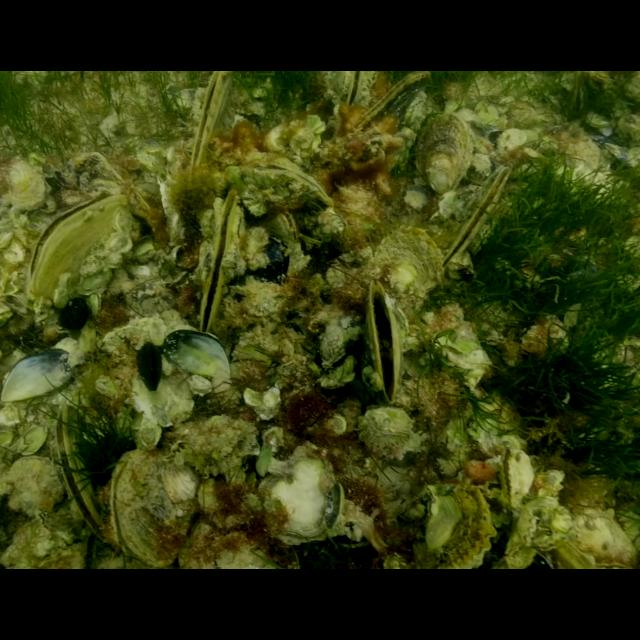Oyster-Closed: (108, 449, 198, 567), (369, 224, 445, 326), (411, 110, 477, 198), (352, 72, 432, 138)
Oyster-Open: (27, 188, 125, 300), (423, 489, 537, 569), (438, 164, 516, 270), (54, 402, 108, 546), (234, 158, 336, 224), (196, 188, 242, 334), (361, 277, 403, 409), (188, 70, 232, 180), (496, 446, 534, 506), (262, 210, 302, 248), (341, 71, 371, 109)
